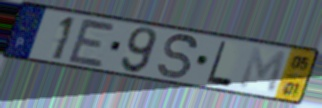1: (52, 15, 78, 61)
9: (120, 26, 158, 75)
E: (65, 16, 118, 70)
L: (205, 40, 234, 89)
M: (236, 45, 289, 96)
S: (156, 33, 200, 82)
